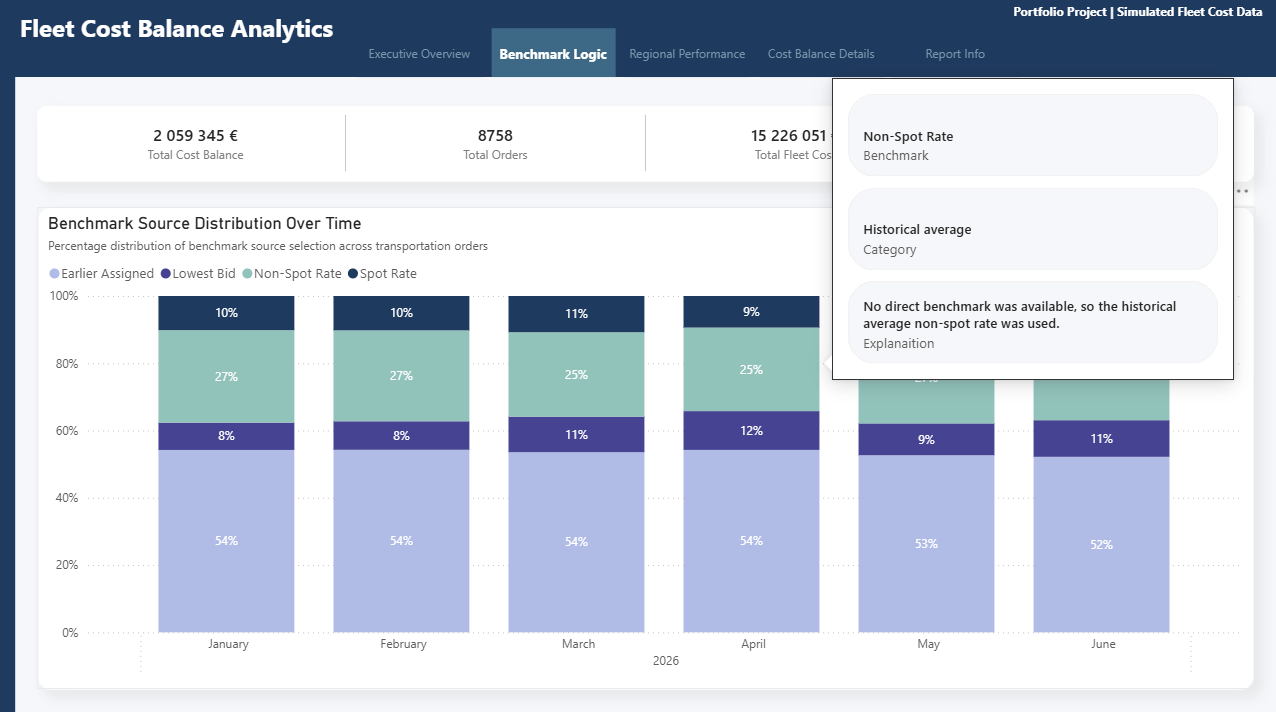

Layout of this report page (visuals, bound fields, positions):
{"tool":"powerbi","page":{"name":"Benchmark Logic","canvas":[1280,720],"ordinal":1},"visuals":[{"type":"hundredPercentStackedColumnChart","title":"Benchmark Source Distribution Over Time","fields":{"Series":["dim_cost_balance_source.cost_balance_source"],"Y":["_measures.Total Orders"],"Category":["dim_calendar.Year","dim_calendar.Month Name"]},"box":[87.1,210,1157.1,482.9],"z":0},{"type":"shape","box":[0,0,1280.3,80],"z":1000},{"type":"textbox","box":[19.2,10,332.1,67.2],"z":2000},{"type":"textbox","box":[1012.4,0,267.6,39.8],"z":3000},{"type":"pageNavigator","box":[360.9,31,661.4,49.4],"z":4000},{"type":"cardVisual","fields":{"Data":["_measures.Total Cost Balance","_measures.Total Orders","_measures.Total DF Cost","_measures.Average Empty Distance %"]},"box":[87.1,100,1157.1,75.7],"z":5000}]}

Visuals, with their boxes on the page's 1280x720 design canvas (x1, y1, x2, y2). These are canvas units, not pixel positions in the 1276x712 screenshot, which may show the page scaled, cropped or inside an application window:
"Benchmark Source Distribution Over Time" hundredPercentStackedColumnChart: box=[87, 210, 1244, 693]
shape: box=[0, 0, 1280, 80]
textbox: box=[19, 10, 351, 77]
textbox: box=[1012, 0, 1280, 40]
pageNavigator: box=[361, 31, 1022, 80]
cardVisual - _measures.Total Cost Balance x _measures.Total Orders: box=[87, 100, 1244, 176]
